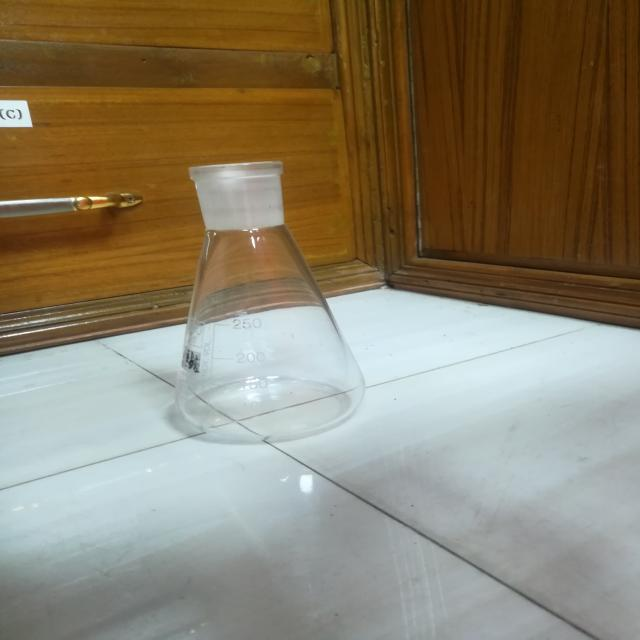Conical_Flask: (119, 115, 380, 465)
